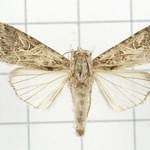Spodoptera litura: (1, 22, 150, 136)
